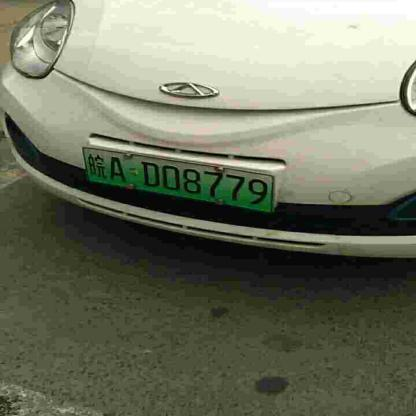lp: (81, 147, 274, 211)
